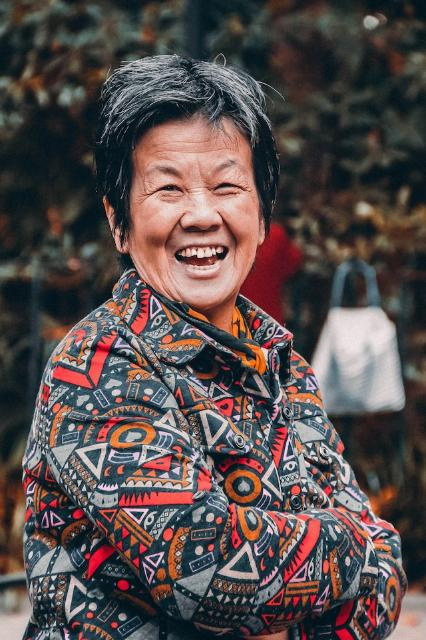crows_feet: (136, 185, 156, 205), (240, 182, 254, 198)
forehead: (164, 138, 228, 156)
frown_line: (185, 180, 209, 198)
gummy_smile: (218, 210, 239, 242), (161, 218, 183, 244)
masseter: (148, 266, 178, 298)
sad_smile: (229, 248, 243, 270)
